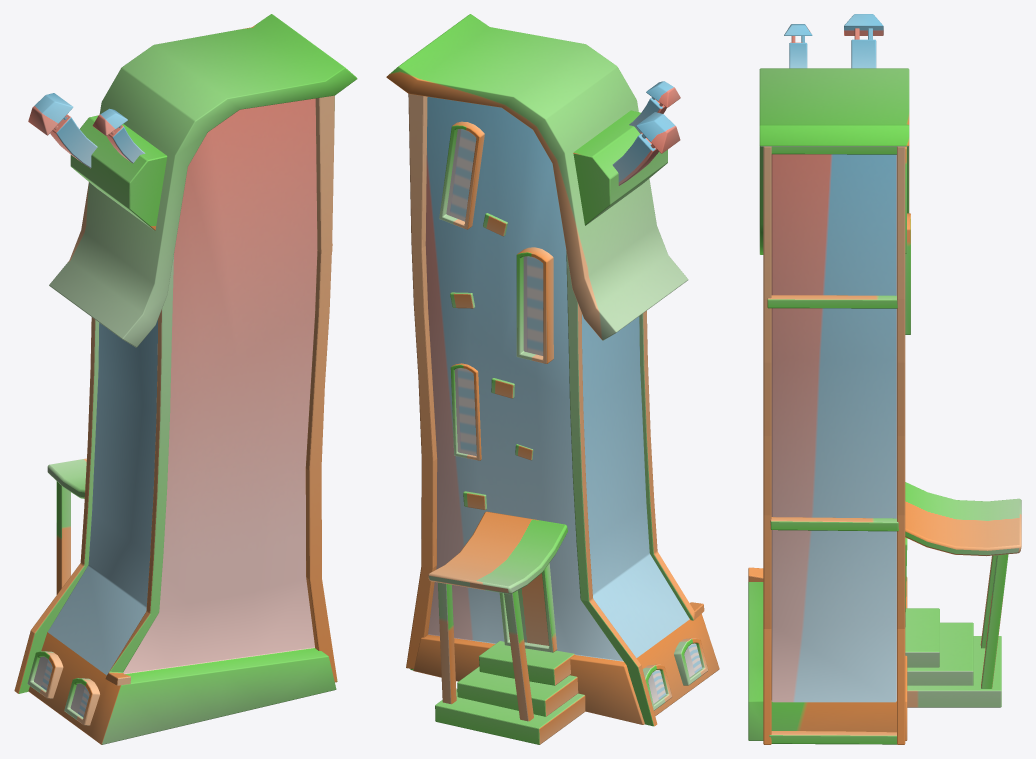
Rendered from HouseD_v2.fbx.
The picture shows the model from 3 angles, left to right: view 1: azimuth 30°, elevation 25°; view 2: azimuth 150°, elevation 25°; view 3: azimuth 270°, elevation 25°; orthographic projection. The views are drawn at different scales.
Parts seen in each view (by area): view 1: HouseD_v2.; view 2: HouseD_v2.; view 3: HouseD_v2..
Boxes of the visible parts, left/top/right/bottom form: HouseD_v2.: left=14, top=14, right=357, bottom=744; HouseD_v2.: left=386, top=14, right=719, bottom=744; HouseD_v2.: left=748, top=14, right=1021, bottom=744.
Bounding box in the file's own units: 597 × 1293 × 513.
